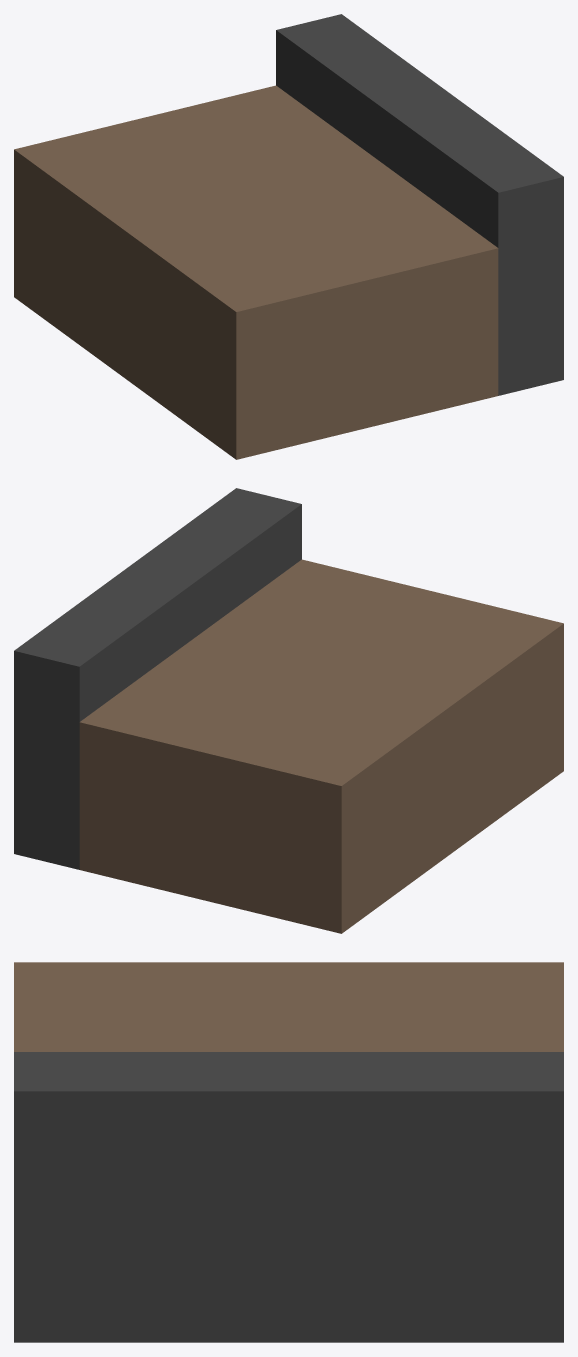
Rendered from Platform Hubba.fbx.
The picture shows the model from 3 angles, top to bottom: view 1: azimuth 30°, elevation 25°; view 2: azimuth 150°, elevation 25°; view 3: azimuth 270°, elevation 25°; orthographic projection. The views are drawn at different scales.
Parts seen in each view (by area): view 1: Platform_with_Hubba; view 2: Platform_with_Hubba; view 3: Platform_with_Hubba.
Part boxes in pixels (x1=…): Platform_with_Hubba: x1=14, y1=14, x2=563, y2=459; Platform_with_Hubba: x1=14, y1=488, x2=563, y2=933; Platform_with_Hubba: x1=14, y1=962, x2=563, y2=1342.
Bounding box in the file's own units: 1.93 × 1.14 × 2.27.
